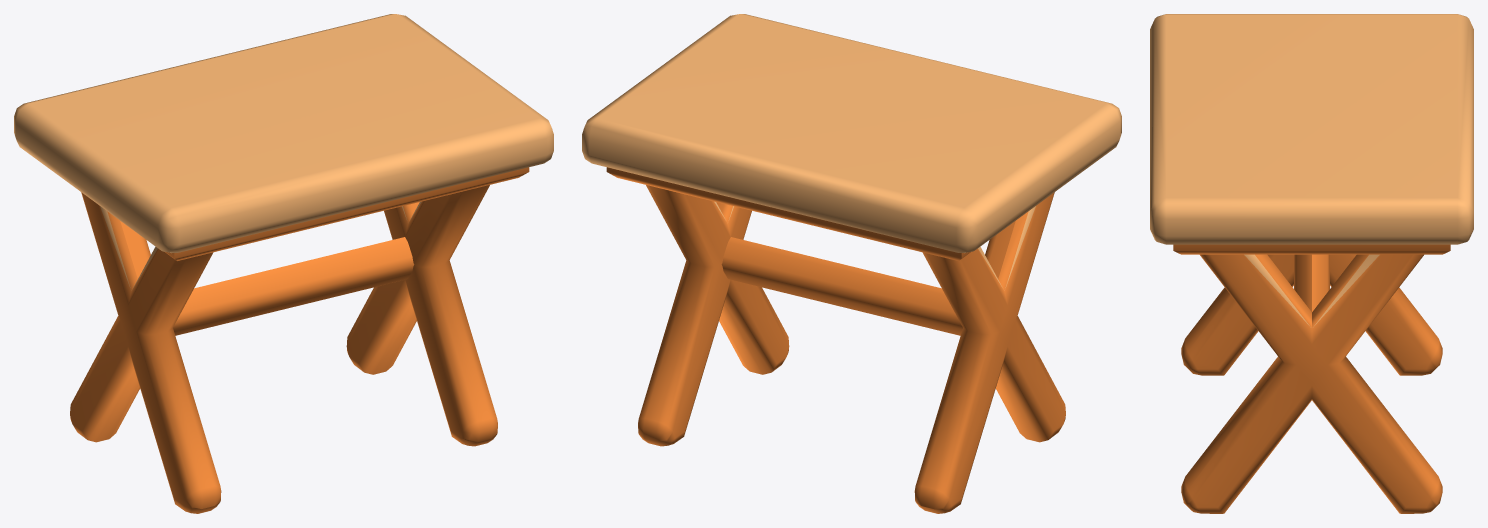
Rendered from mesa_natal_bancada_pes_x_pacote.glb.
3 views of the same model, side by side, from view 1: azimuth 30°, elevation 25°; view 2: azimuth 150°, elevation 25°; view 3: azimuth 270°, elevation 25° (orthographic). The views are drawn at different scales.
Parts seen in each view (by area): view 1: mesa_natal_bancada_pes_x_pacote; view 2: mesa_natal_bancada_pes_x_pacote; view 3: mesa_natal_bancada_pes_x_pacote.
Part boxes in pixels (x1=…): mesa_natal_bancada_pes_x_pacote: x1=14, y1=14, x2=553, y2=513; mesa_natal_bancada_pes_x_pacote: x1=582, y1=14, x2=1121, y2=513; mesa_natal_bancada_pes_x_pacote: x1=1150, y1=14, x2=1473, y2=513.
Bounding box in the file's own units: 1.03 × 0.8169 × 0.7155.
1 material, 1 textured.
